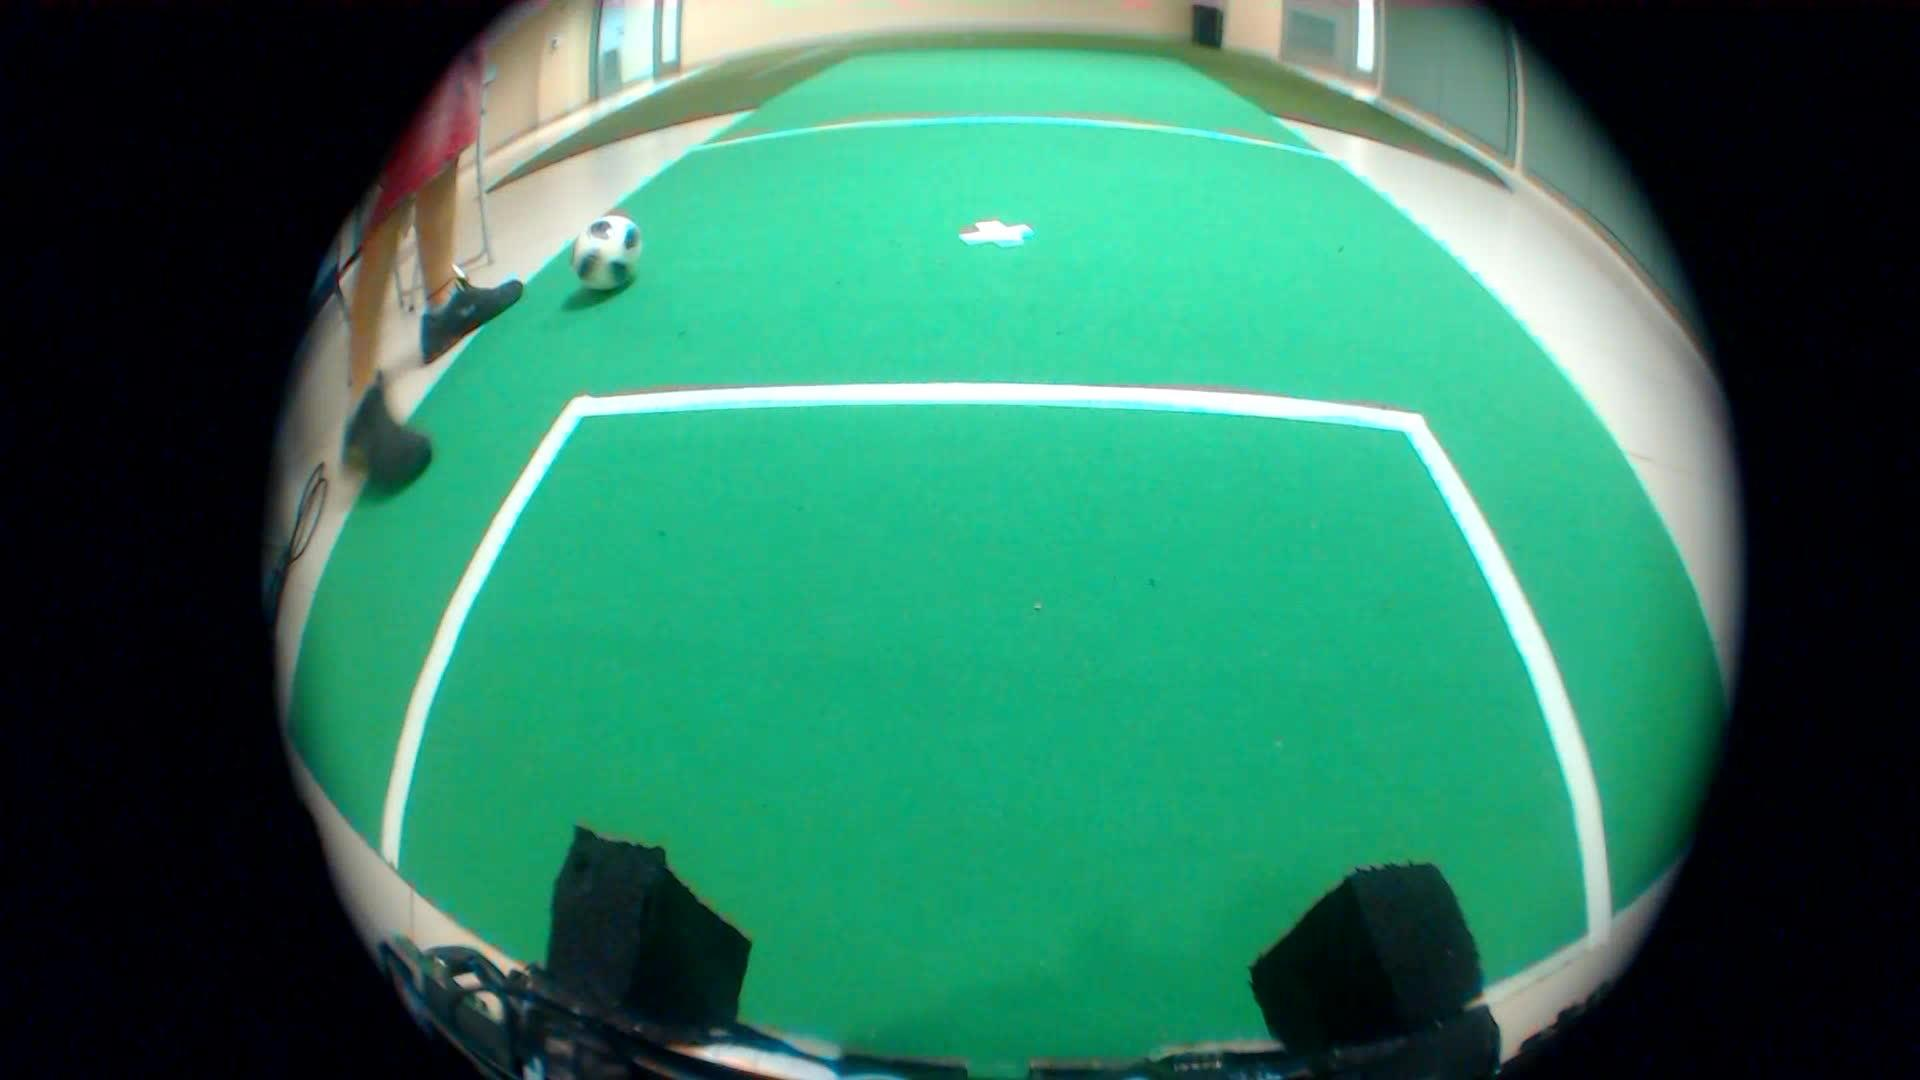ball: (553, 203, 645, 305)
